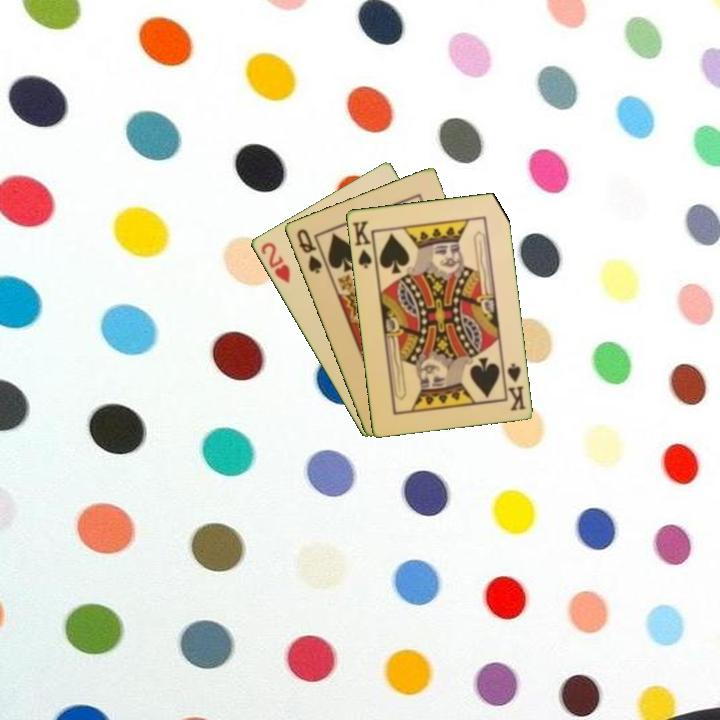2h: (257, 238, 293, 287)
Ks: (349, 217, 378, 271), (500, 359, 529, 413)
Qs: (293, 225, 325, 276)
